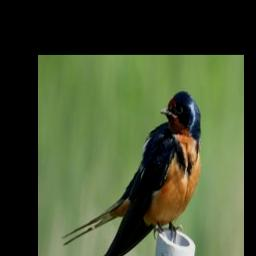Swallow: (62, 87, 203, 256)
